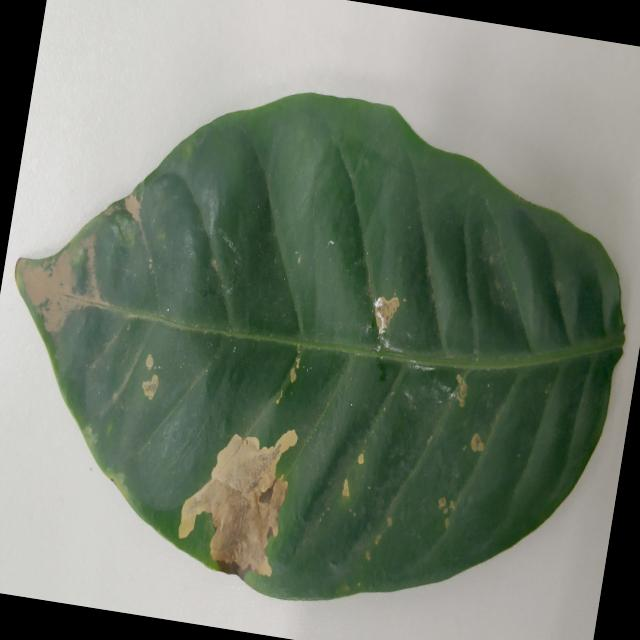KaratDaunKopi: (179, 431, 297, 576), (375, 297, 399, 334), (142, 375, 158, 401), (471, 433, 484, 452), (460, 381, 467, 398), (146, 355, 153, 371), (343, 479, 349, 497), (290, 367, 296, 383), (358, 454, 364, 465), (296, 358, 300, 367)
